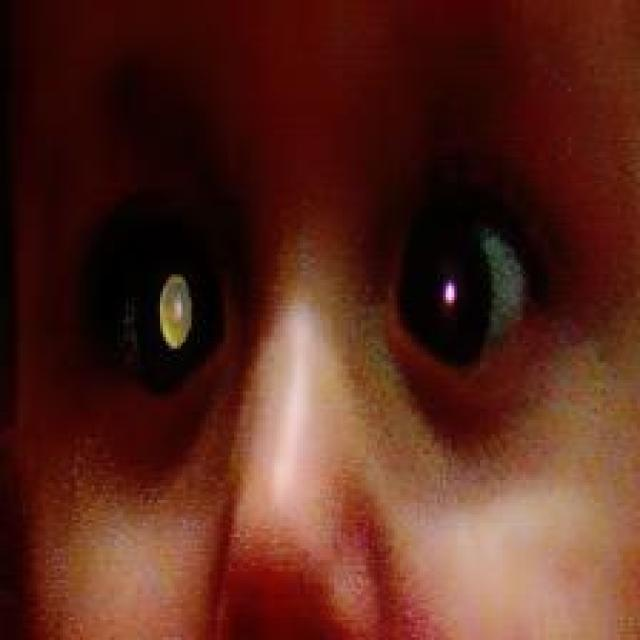reflexo-alterado: (333, 169, 543, 431), (89, 191, 248, 402)
